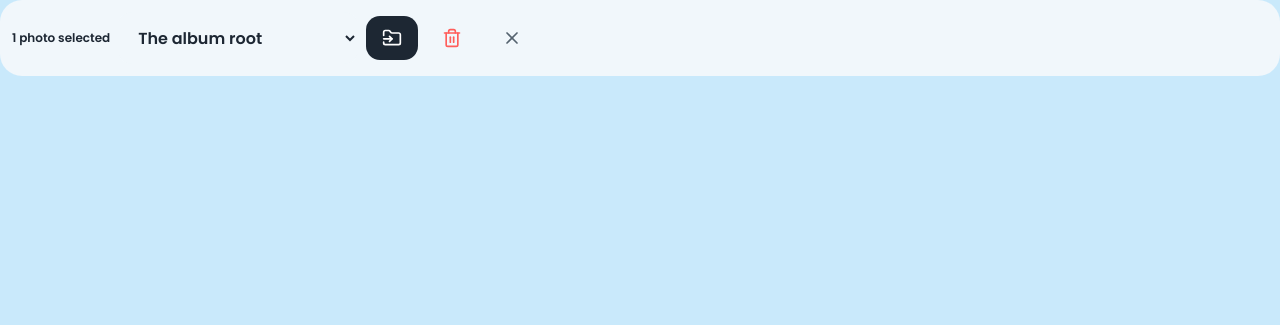
it: PhotoMoveBar › survives a refused remove: the confirm stays open and the alert explains
This screenshot has width=1280, height=325.
What coordinates should you click on to do the following:
click the button named "Remove the selected photos"
I would click on:
 (452, 38)
Its box is [426,16,478,60].
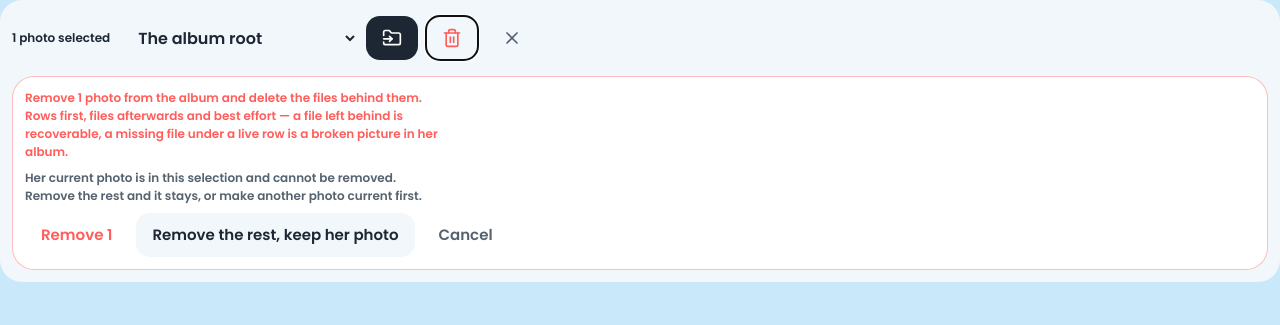
What coordinates should you click on to do the following:
click the button "Remove 1"
I would click on:
 (77, 235)
Its box is [25,213,128,257].
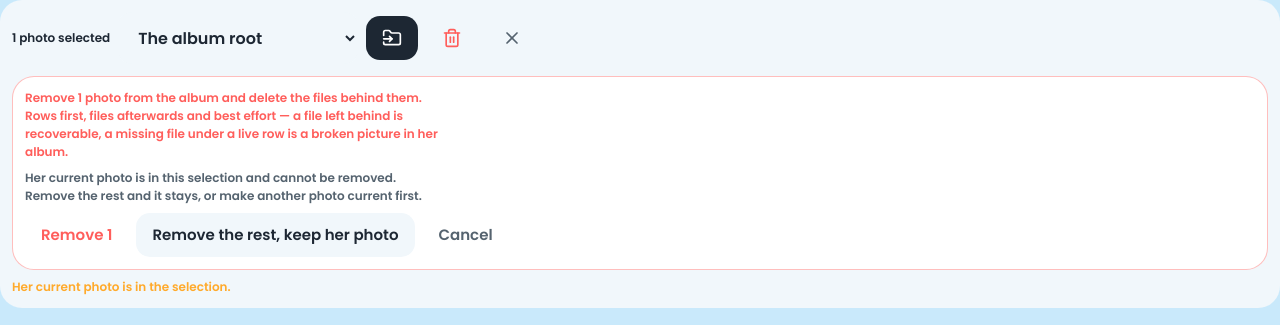
expect the text "delete the files behind them" is shown: met, box [25,89,438,160]
expect the message reads "Her current photo is in the selection.": met, box [12,278,231,295]
